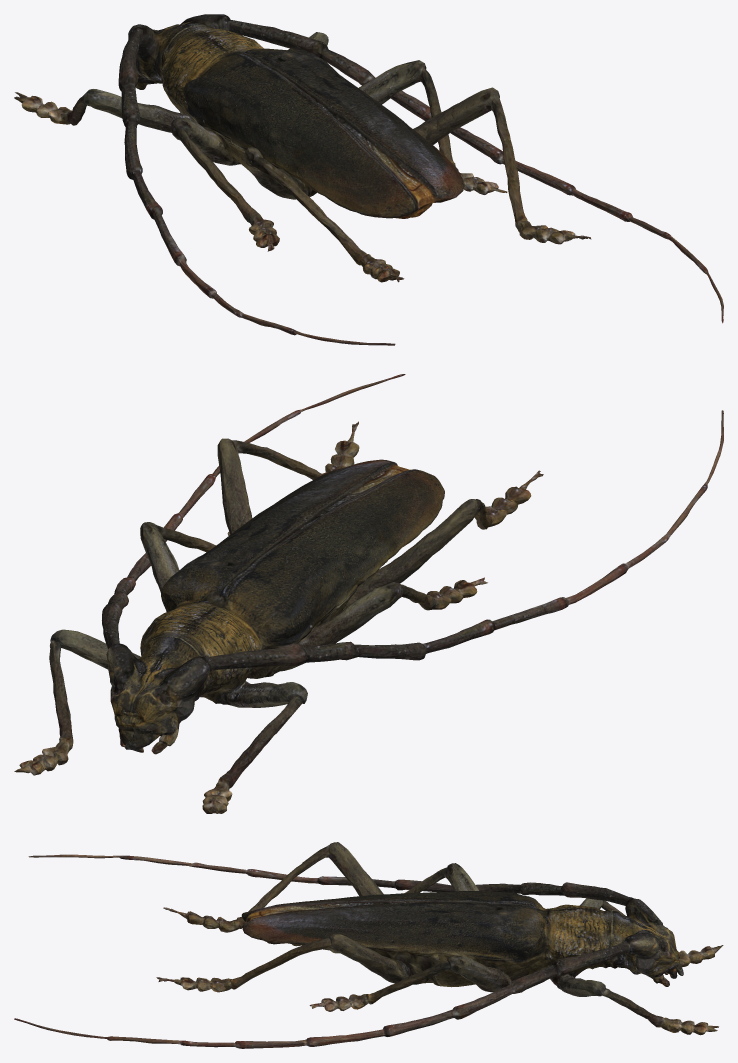
Rendered from Longicorn beetles.glb.
3 views of the same model, one above another, from view 1: azimuth 30°, elevation 25°; view 2: azimuth 150°, elevation 25°; view 3: azimuth 270°, elevation 25° (orthographic). The views are drawn at different scales.
Visible parts, largest first — view 1: Group65300; view 2: Group65300; view 3: Group65300.
Part boxes in pixels (x1=…): Group65300: x1=14, y1=14, x2=723, y2=345; Group65300: x1=14, y1=374, x2=723, y2=813; Group65300: x1=14, y1=842, x2=723, y2=1048.
Size of the model in its own units: 0.0469 by 0.0154 by 0.0853.
Materials: 1 (1 with a texture image).
